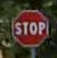stop: (10, 9, 49, 47)
